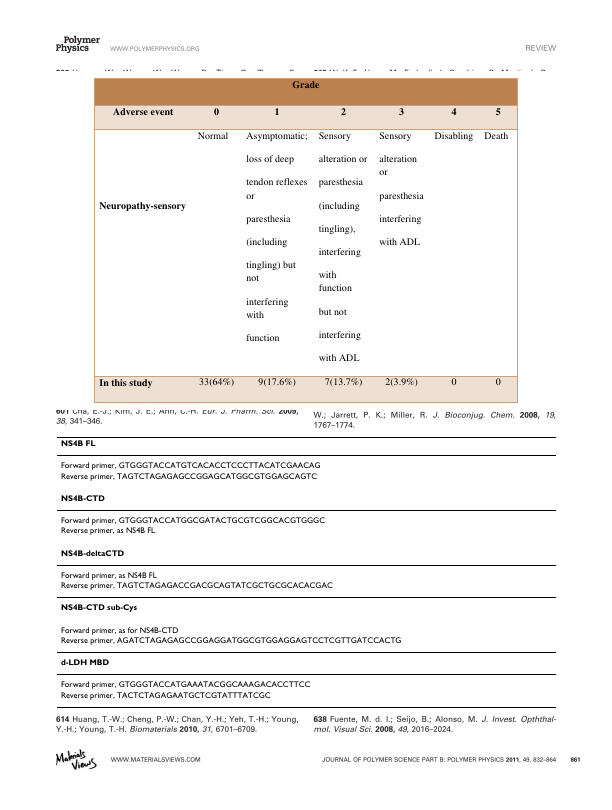bordered: (93, 77, 517, 402)
borderless: (56, 435, 556, 707)
cell: (245, 129, 309, 344), (318, 129, 368, 364), (378, 129, 425, 248), (59, 636, 402, 646), (59, 581, 333, 591), (59, 516, 326, 526), (59, 472, 318, 482), (59, 462, 321, 471), (59, 681, 311, 690), (59, 691, 271, 701), (98, 198, 187, 212), (59, 626, 179, 636), (59, 571, 157, 581), (59, 527, 156, 536), (112, 104, 174, 118), (98, 375, 154, 388), (59, 604, 138, 613), (59, 549, 125, 559), (434, 129, 474, 142), (257, 375, 297, 388), (324, 375, 363, 388), (198, 375, 235, 388), (59, 494, 105, 504), (384, 375, 419, 388), (59, 659, 109, 668), (197, 129, 229, 142), (291, 77, 320, 91), (483, 129, 509, 142), (59, 440, 96, 449), (213, 104, 220, 118), (274, 104, 281, 118), (340, 104, 347, 118), (398, 104, 405, 118), (450, 104, 457, 118), (495, 104, 502, 118), (450, 375, 457, 388), (495, 375, 502, 388)
